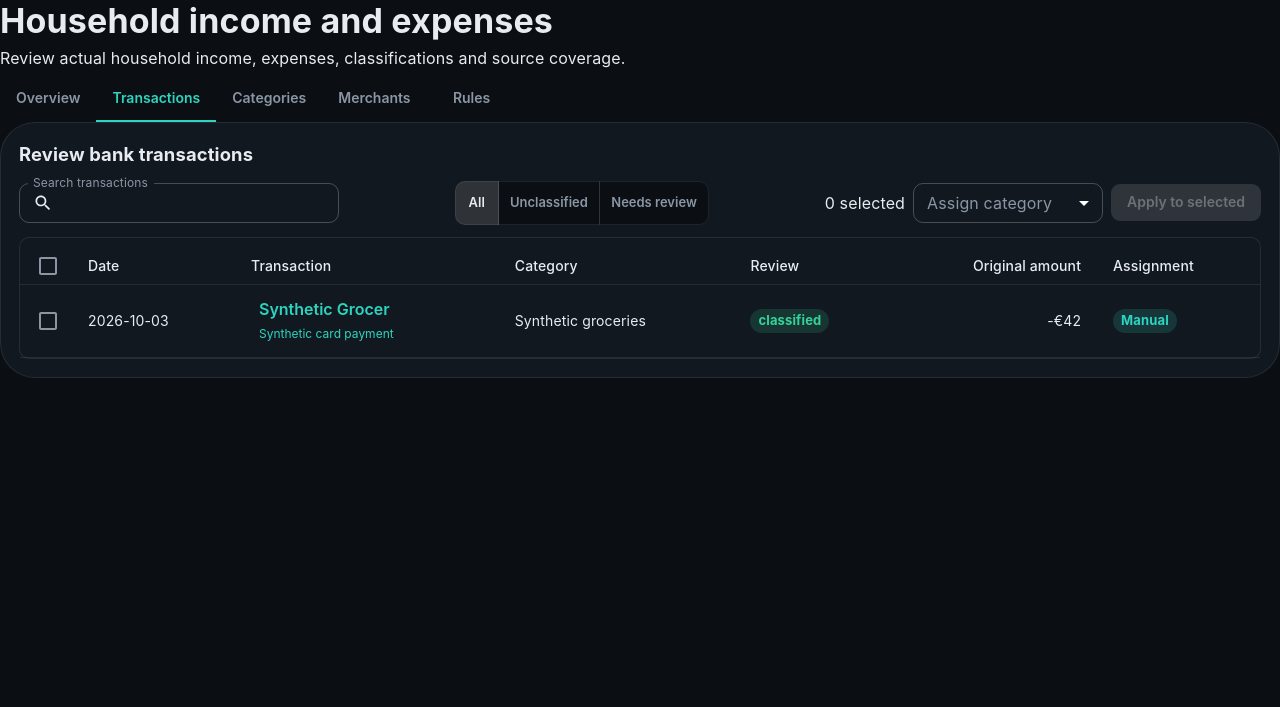
household live API wiring › clears an existing merchant identity when the reviewer explicitly selects none
Click the button "Synthetic Grocer Synthetic card payment": point(326, 321) left=251, top=291, right=402, bottom=351
(page scrolled)
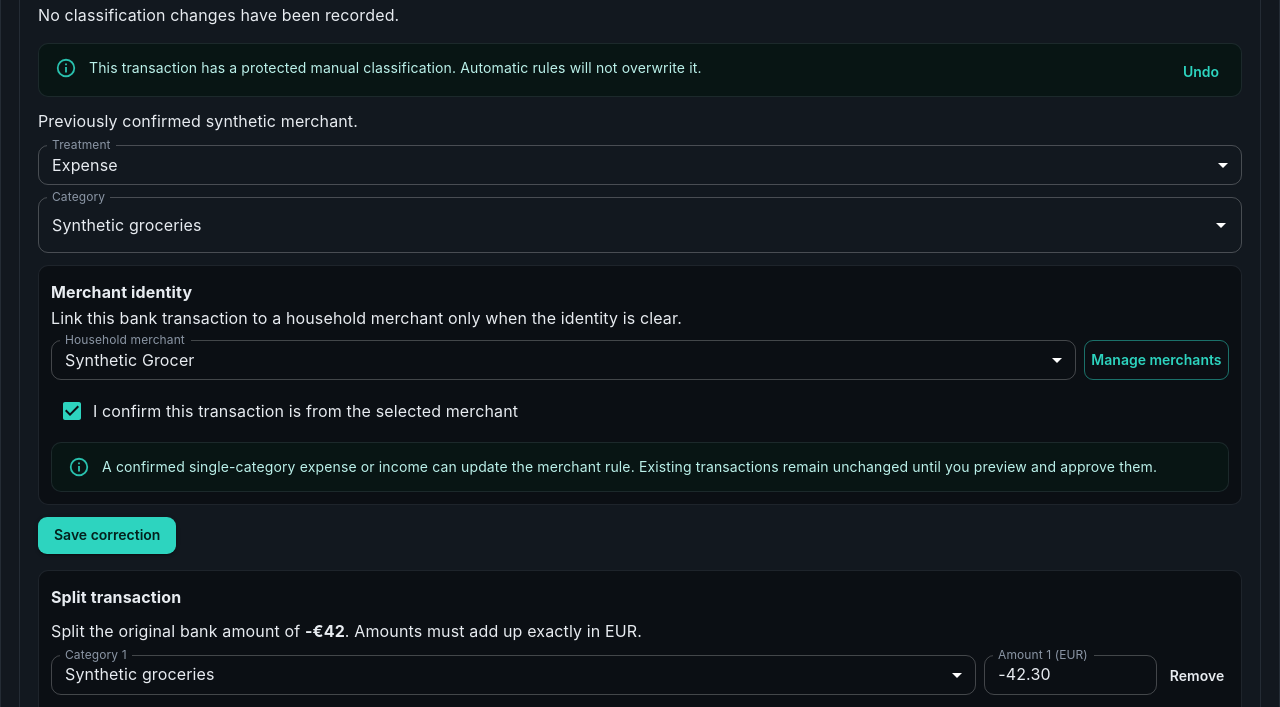
Click the dropdown named "Household merchant": point(130, 360) left=65, top=350, right=194, bottom=370
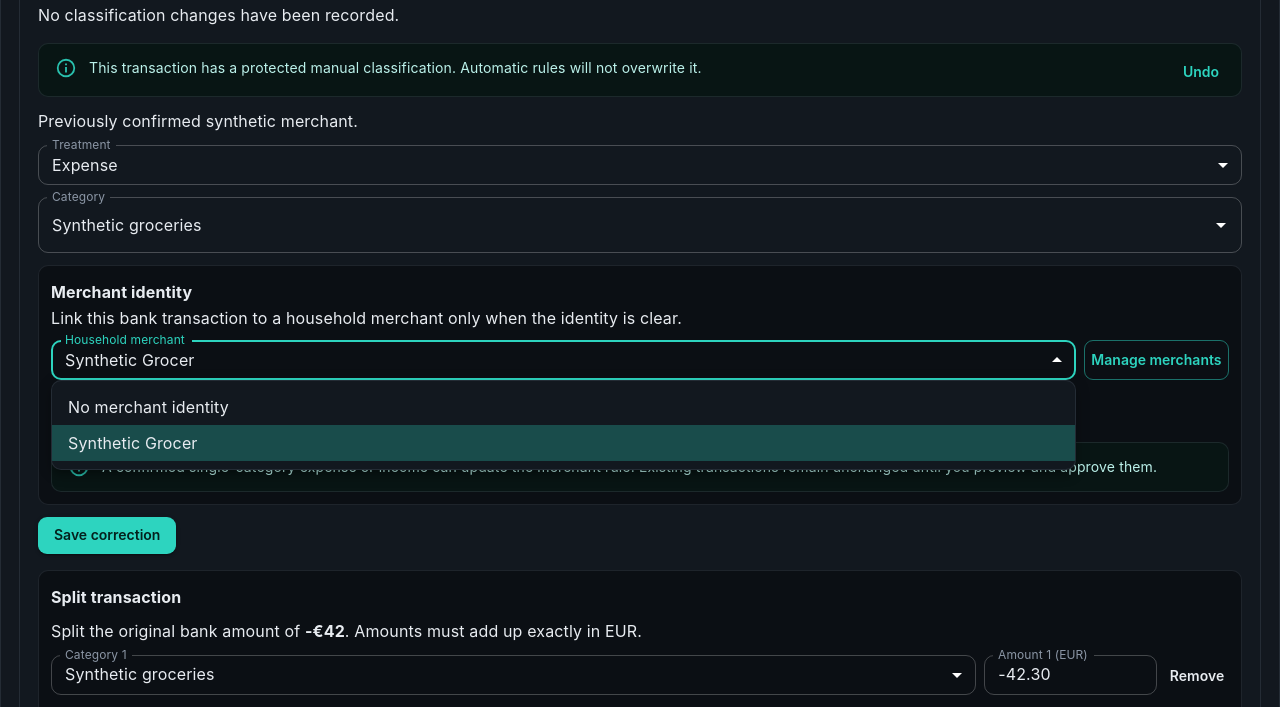
Click the option "No merchant identity": point(148, 407) left=68, top=397, right=229, bottom=417
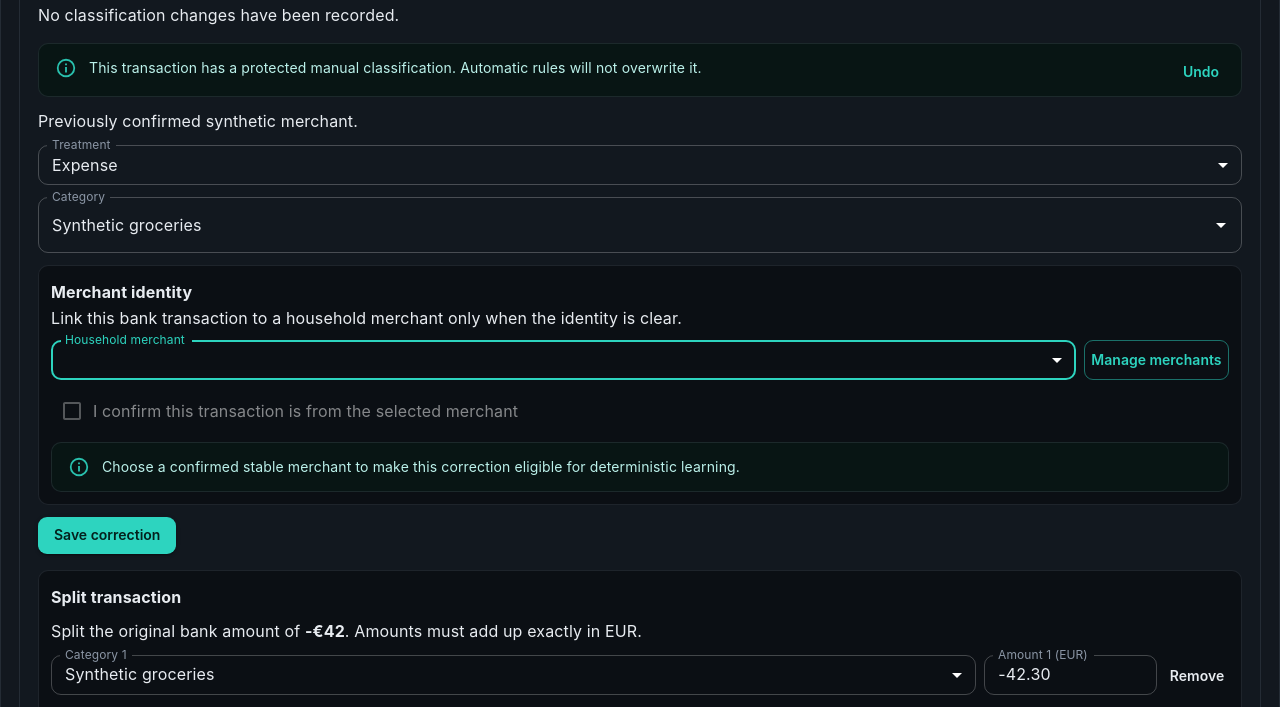
Click the button "Save correction": point(107, 536) left=38, top=518, right=176, bottom=554
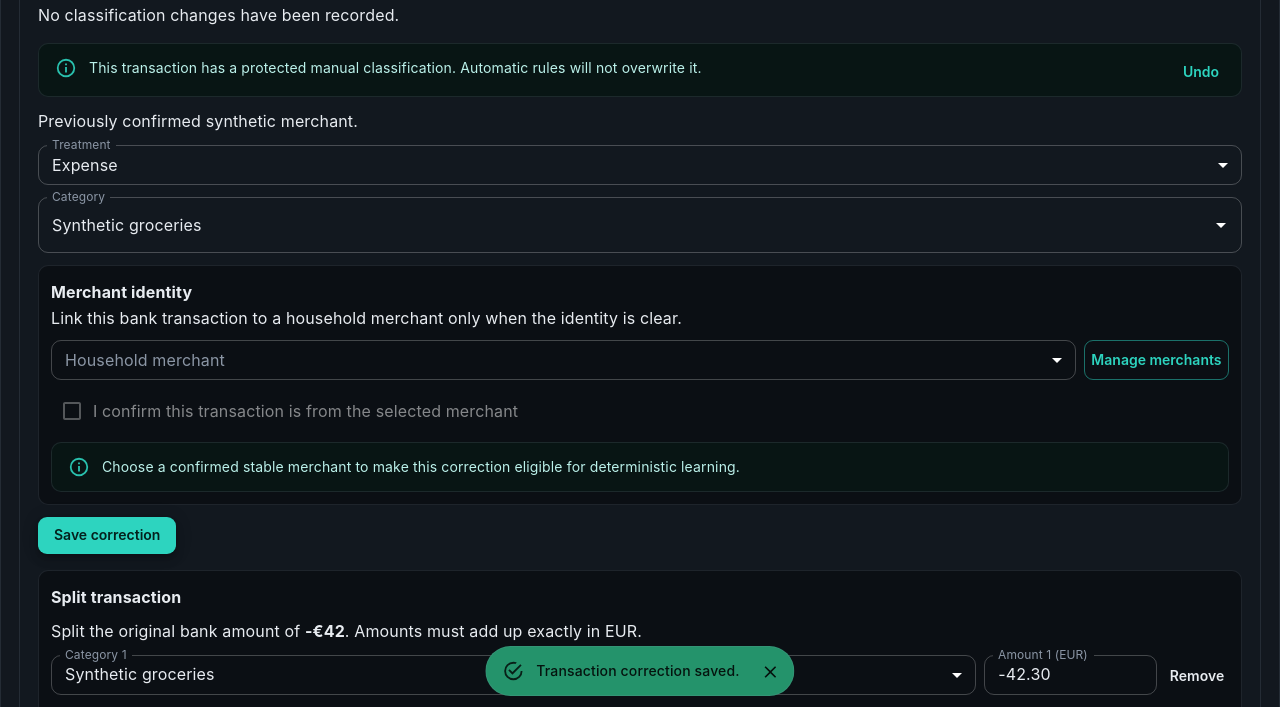
Check: the text "Transaction correction saved." is shown, box left=536, top=662, right=740, bottom=679
